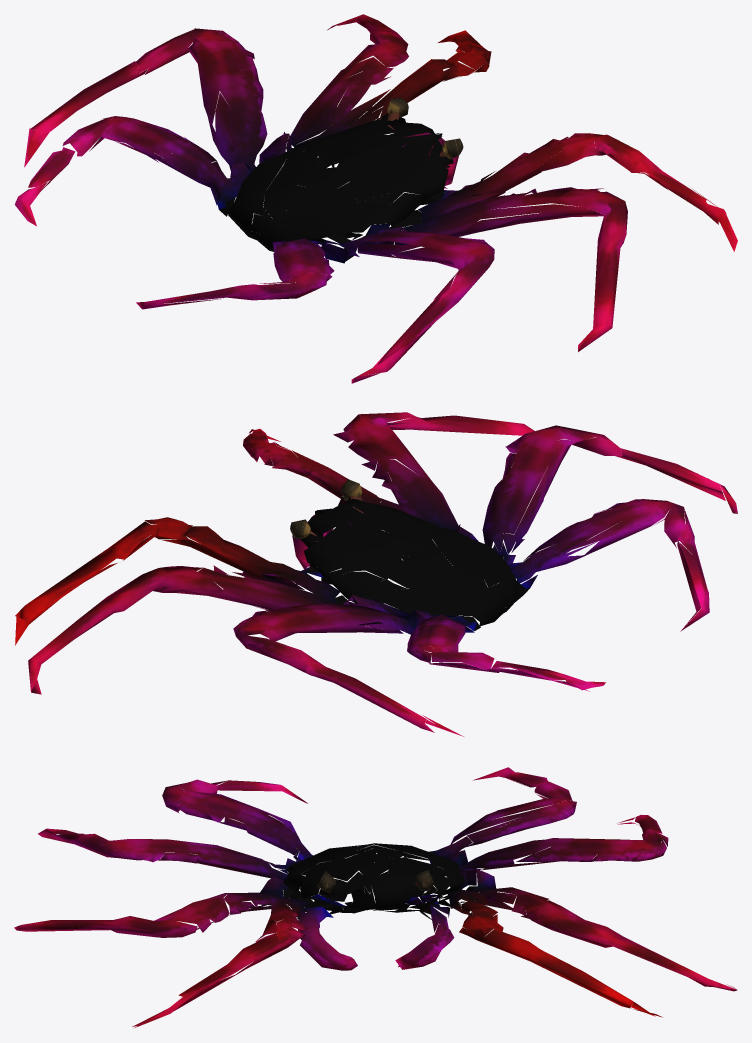
Rendered from sally_lightfoot_lod1.glb.
The picture shows the model from 3 angles, top to bottom: view 1: azimuth 30°, elevation 25°; view 2: azimuth 150°, elevation 25°; view 3: azimuth 270°, elevation 25°; orthographic projection. The views are drawn at different scales.
Visible parts, largest first — view 1: Legs, Body, Eyes; view 2: Legs, Body, Eyes; view 3: Legs, Body, Claws, Eyes.
Part boxes in pixels (<box>): Legs: <box>15,14,737,383</box>; Body: <box>219,113,453,251</box>; Eyes: <box>387,98,463,159</box>; Legs: <box>15,412,737,736</box>; Body: <box>300,497,529,630</box>; Eyes: <box>290,479,364,543</box>; Legs: <box>14,767,737,1027</box>; Body: <box>283,843,477,914</box>; Claws: <box>298,894,454,970</box>; Eyes: <box>316,870,434,893</box>.
Bounding box in the file's own units: 2.69 × 0.4326 × 3.45.
2 materials, 2 textured.
